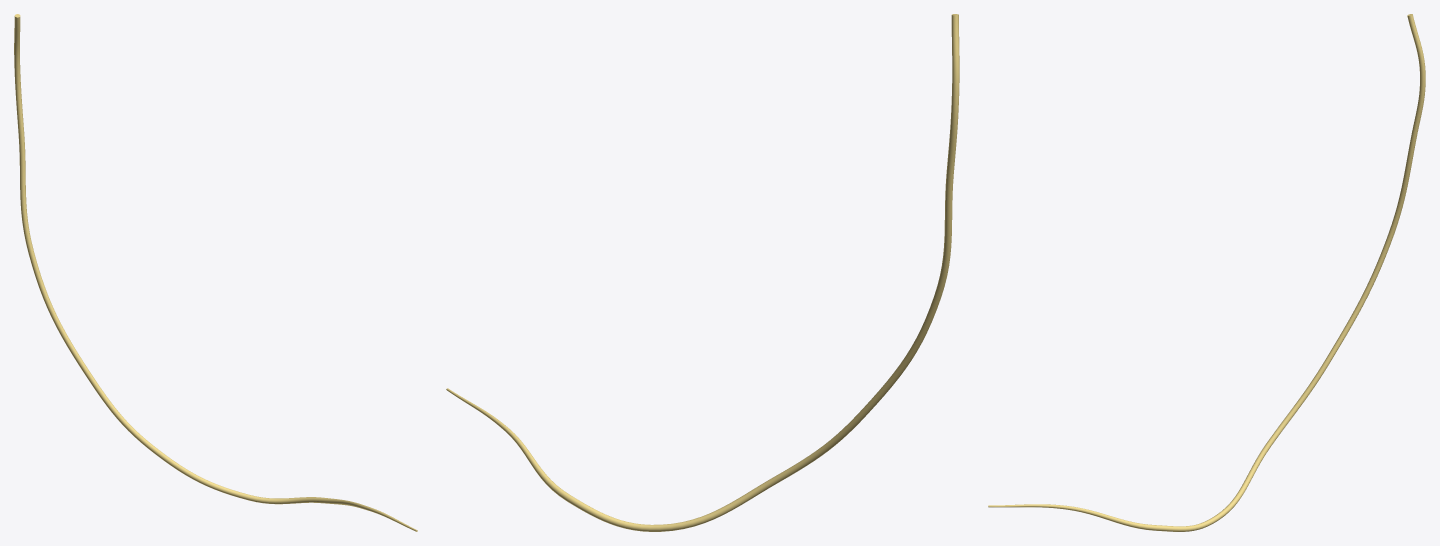
3 renders of one model, left to right at view 1: azimuth 30°, elevation 25°; view 2: azimuth 210°, elevation 25°; view 3: azimuth 270°, elevation 25°, orthographic. The views are drawn at different scales.
Visible parts, largest first — view 1: ZA_a824ce6dfcecc53f; view 2: ZA_a824ce6dfcecc53f; view 3: ZA_a824ce6dfcecc53f.
Boxes of the visible parts, x1,y1,x2,y2 form: ZA_a824ce6dfcecc53f: [14, 14, 417, 531]; ZA_a824ce6dfcecc53f: [446, 14, 959, 531]; ZA_a824ce6dfcecc53f: [988, 14, 1425, 531].
Bounding box in the file's own units: 0.0228 × 0.0514 × 0.046.
